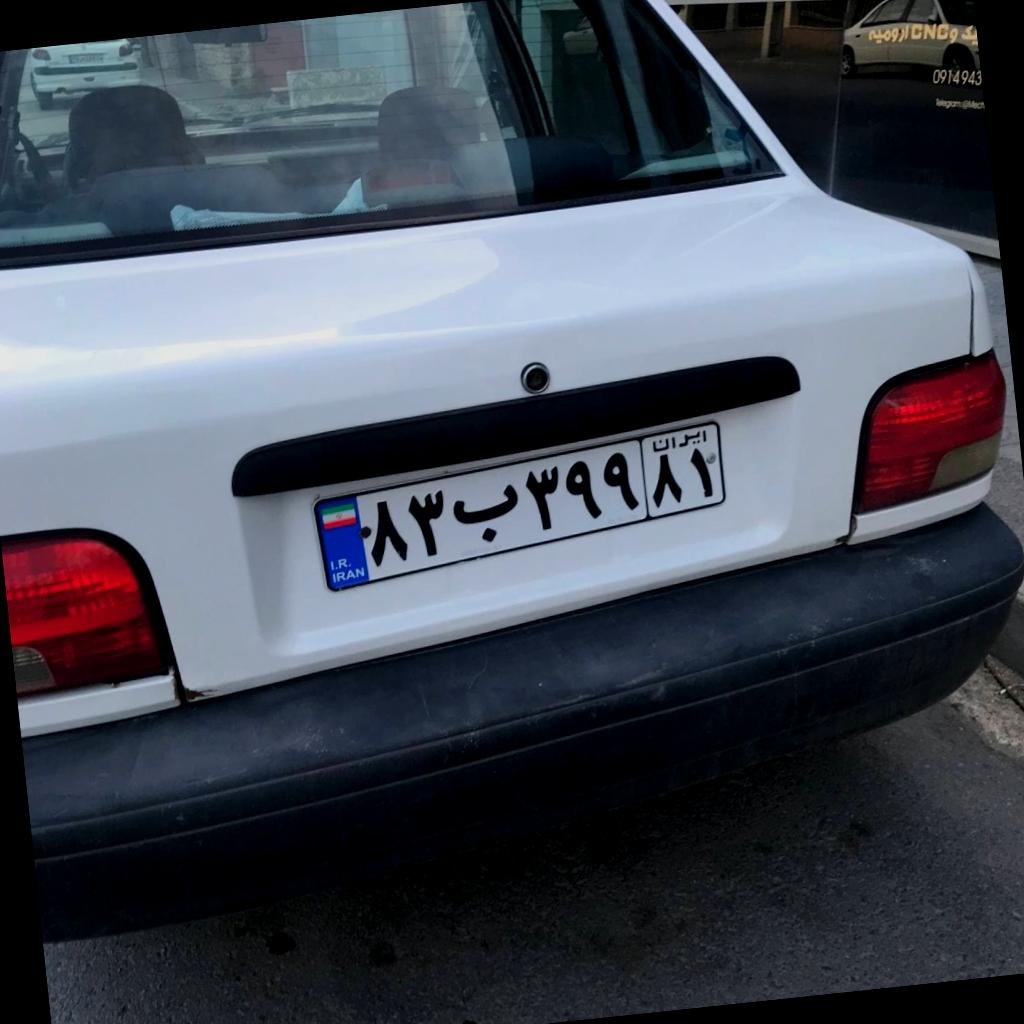Plates: (314, 422, 724, 589)
